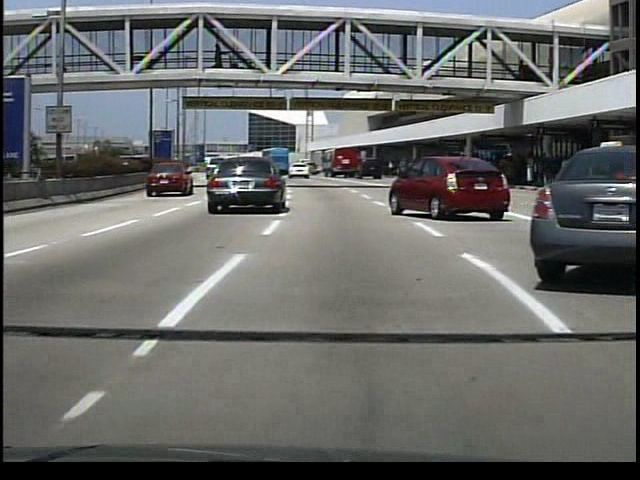person: (213, 43, 228, 71)
